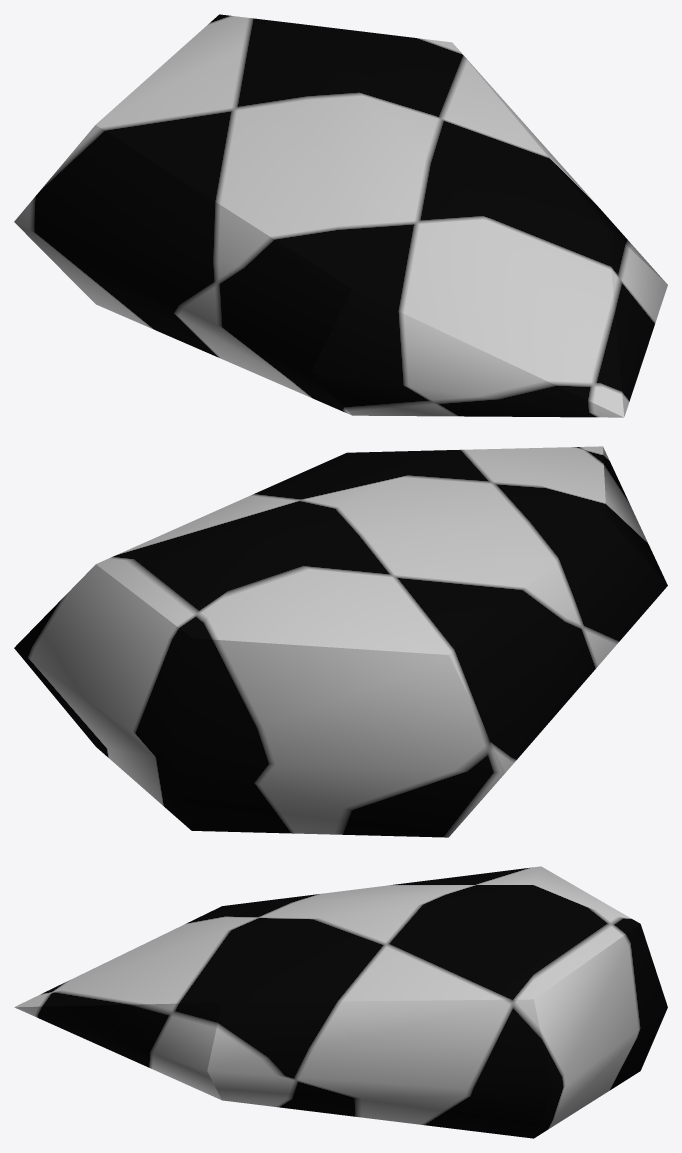
Rendered from drone_frozen_in.obj.
3 renders of one model, top to bottom at view 1: azimuth 30°, elevation 25°; view 2: azimuth 150°, elevation 25°; view 3: azimuth 270°, elevation 25°, orthographic. The views are drawn at different scales.
Visible parts, largest first — view 1: frost_drone_lowpoly; view 2: frost_drone_lowpoly; view 3: frost_drone_lowpoly.
Part boxes in pixels (x1,y1,x2,y2): frost_drone_lowpoly: (14, 14, 667, 417); frost_drone_lowpoly: (14, 446, 667, 837); frost_drone_lowpoly: (14, 866, 667, 1138).
Size of the model in its own units: 12.1 by 6.57 by 18.11.
1 material, 1 textured.
